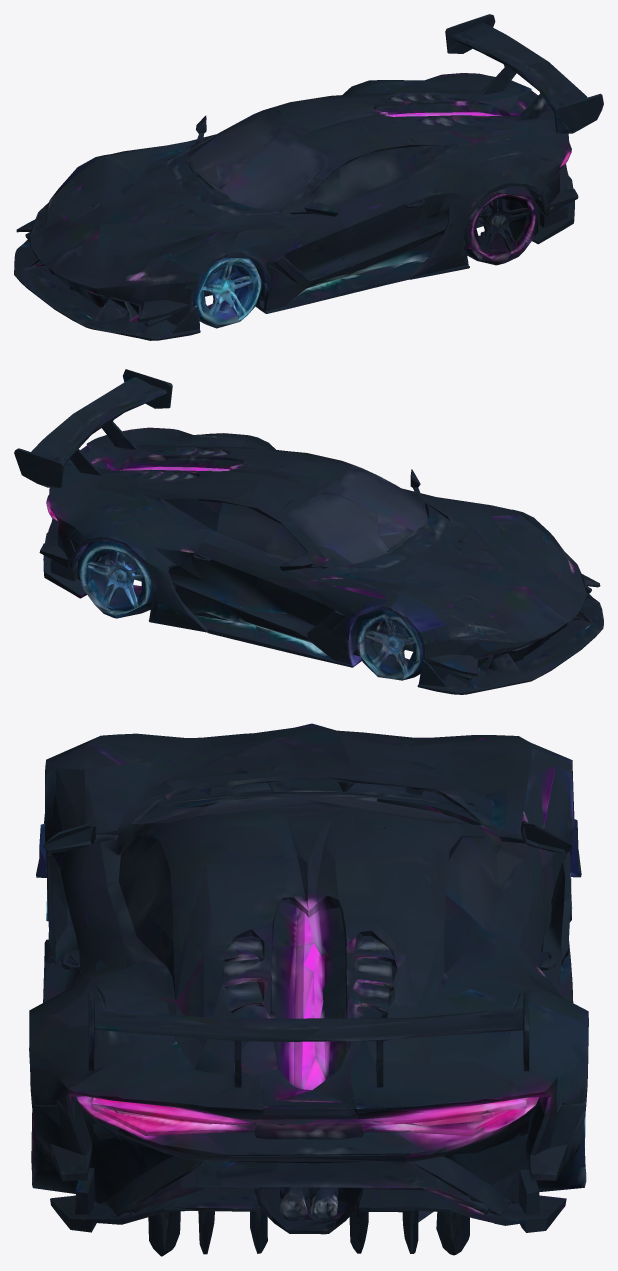
File: mx_velocity_car.glb
3 renders of one model, top to bottom at view 1: azimuth 30°, elevation 25°; view 2: azimuth 150°, elevation 25°; view 3: azimuth 270°, elevation 25°, orthographic. The views are drawn at different scales.
Size of the model in its own units: 1.9 by 0.4853 by 0.9145.
Materials: 1 (1 with a texture image).
